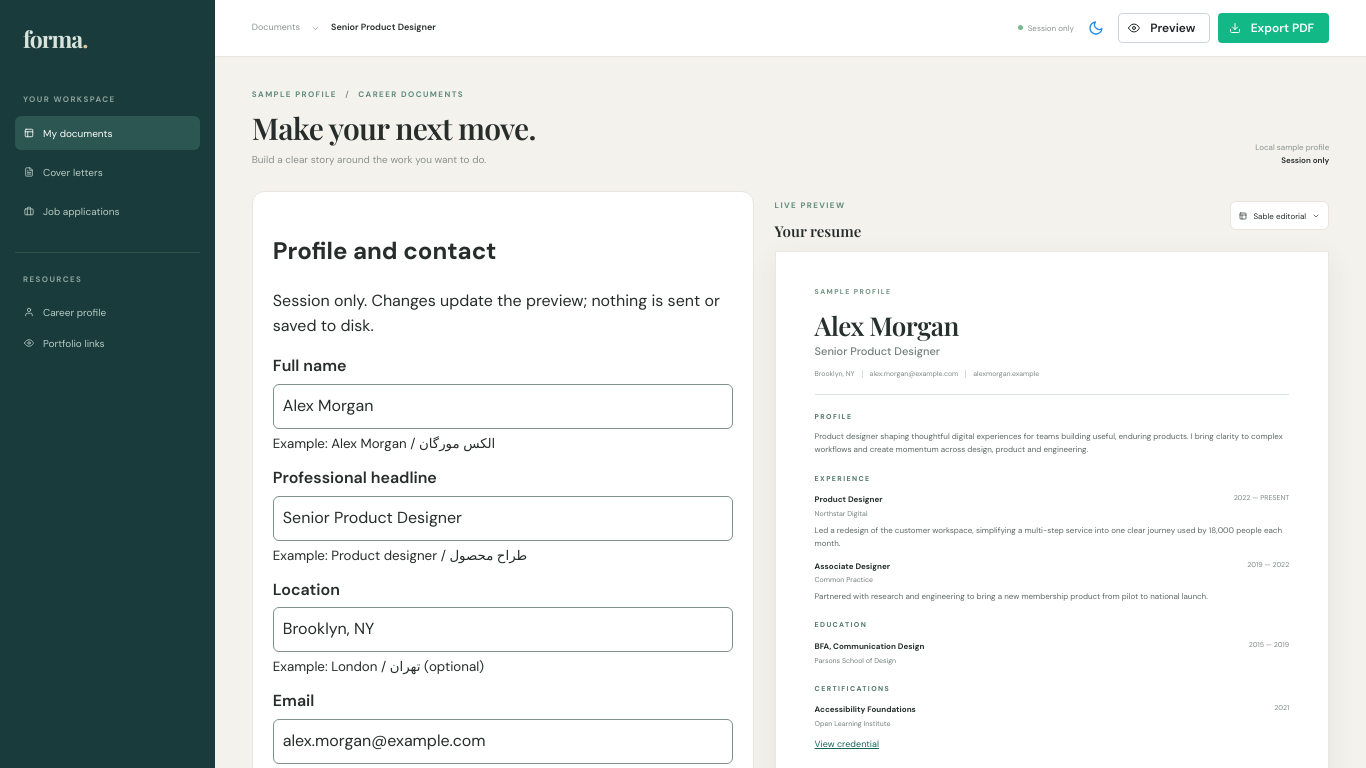
Test: Forma profile/contact editing › updates a bilingual preview without losing experience or saving personal data
The image size is (1366, 768).
Replace the text in the field labelled "Full name" with "نام نمونه" at {"x": 503, "y": 407}, box [273,384,733,429]
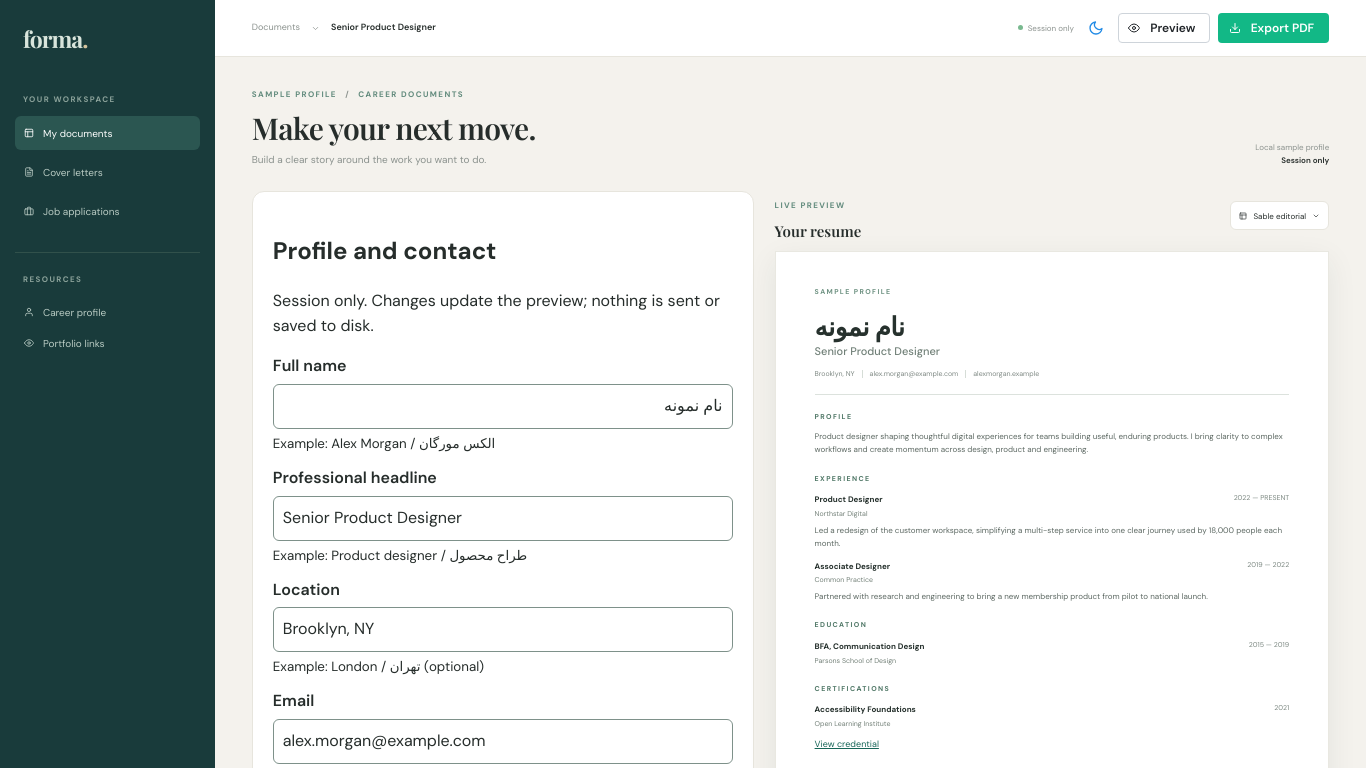
Expected: the text "EXPERIENCE" is shown, [815,474,870,483]
Now the heading "نام نمونه" is shown, box [815,308,904,342]
